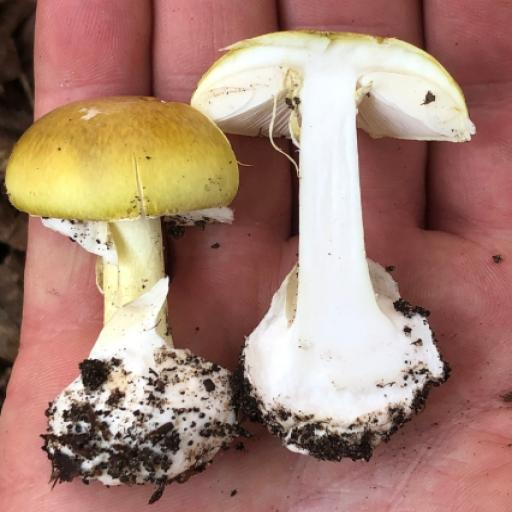mushroom: (7, 97, 239, 221), (104, 217, 165, 323), (0, 0, 1, 1)
